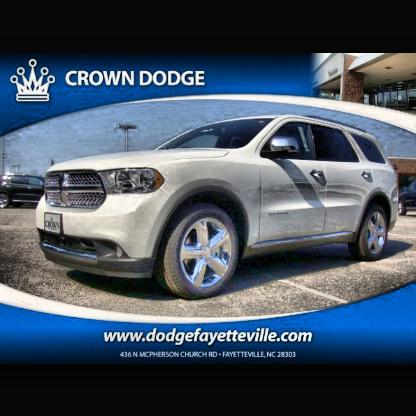Dodge Durango SUV 2012: (37, 114, 401, 301)
